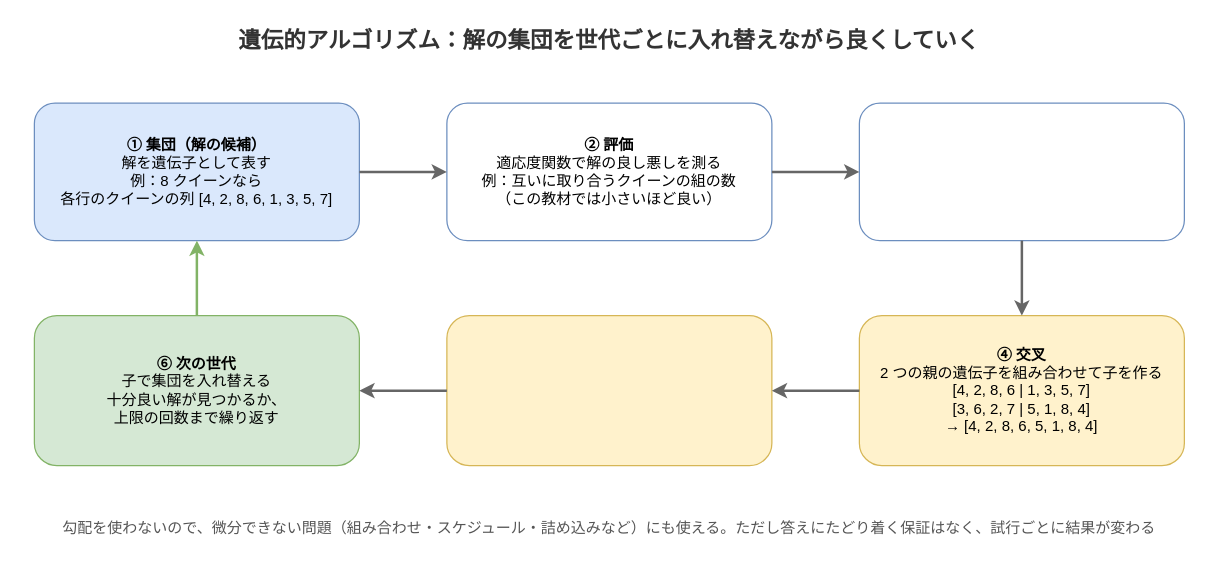
Some shapes in this 1218 by 574 pixel diagram are drawn without their labels. Each missing label, with the centre of its shape:
③ 選択 良い解ほど親に選ばれやすくする: the point at 1021,171
⑤ 突然変異 遺伝子の一部をランダムに変える 局所的な最適解から抜け出すため: the point at 609,390
